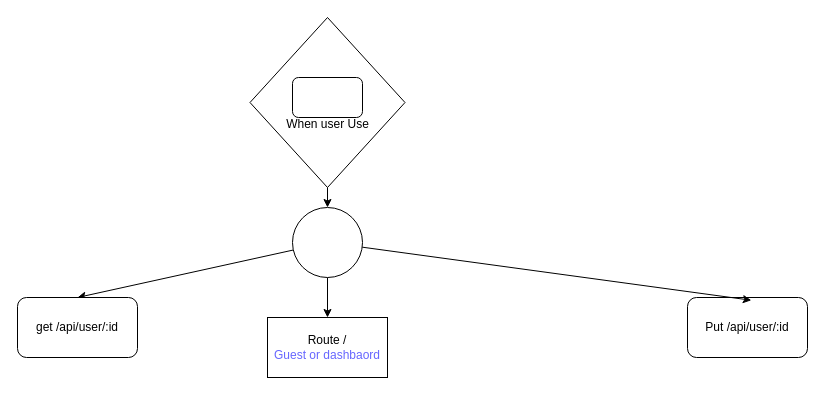
Image size: 825x395. Some labels were removed from this diagram. The centre of each missing label's shape, as x and y in pixels:
"Middilware" goes at point (327, 242).
"My system" goes at point (327, 97).
